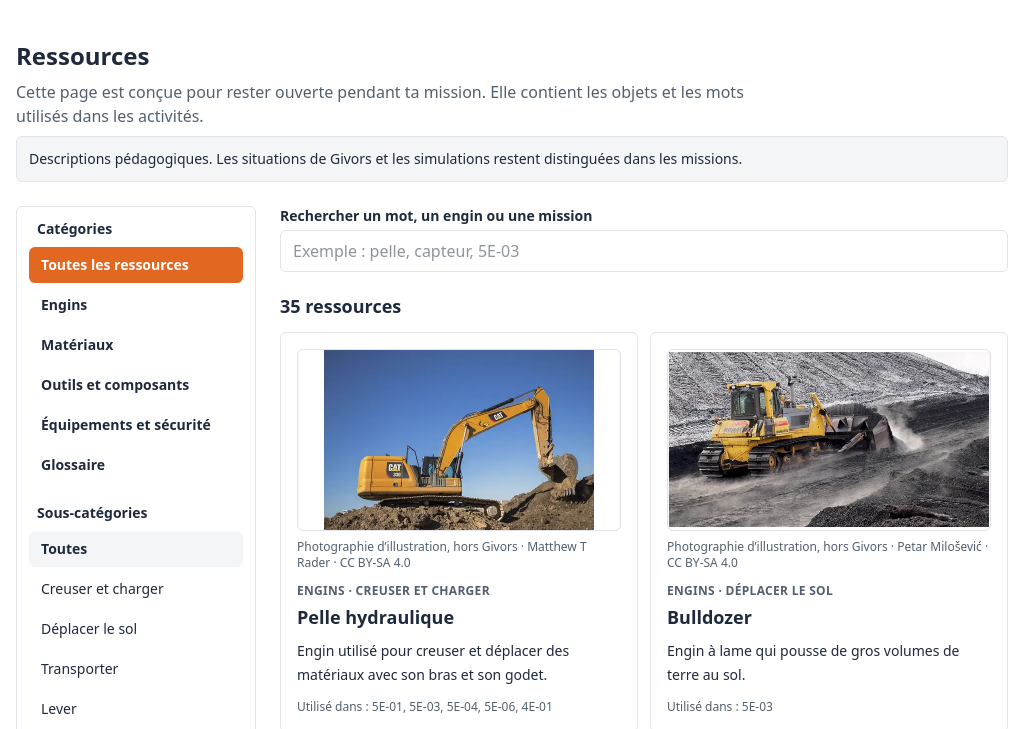
Test: ressources › allège le glossaire en n’affichant pas de photographie
The image size is (1024, 729).
Click the button "Glossaire" at (136, 465), box [29, 447, 243, 483]
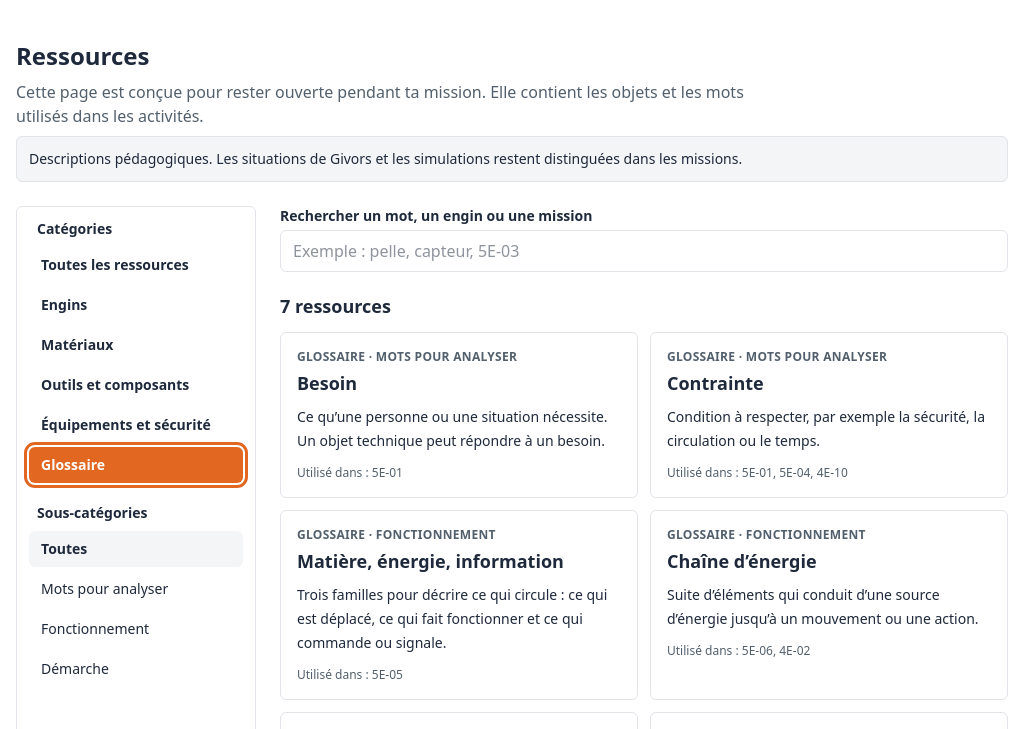
Expected: the heading "Besoin" is shown, [297, 371, 357, 395]
Now the text "Photographie d’illustration" is gone
